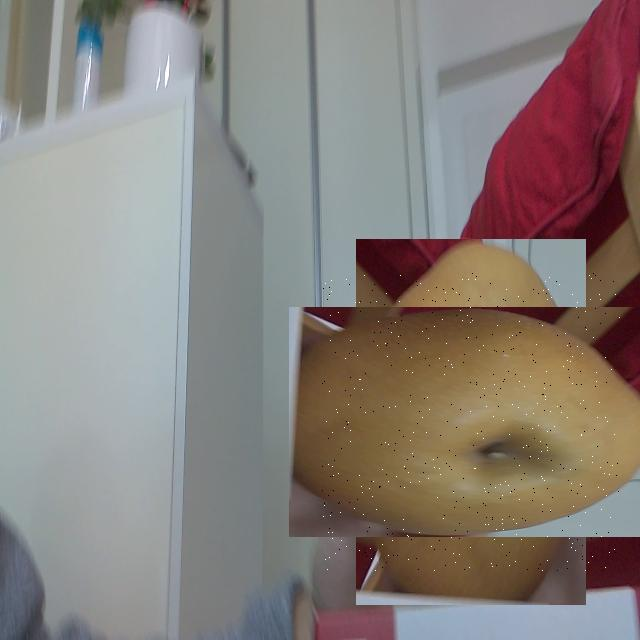pear: (322, 273, 620, 571)
